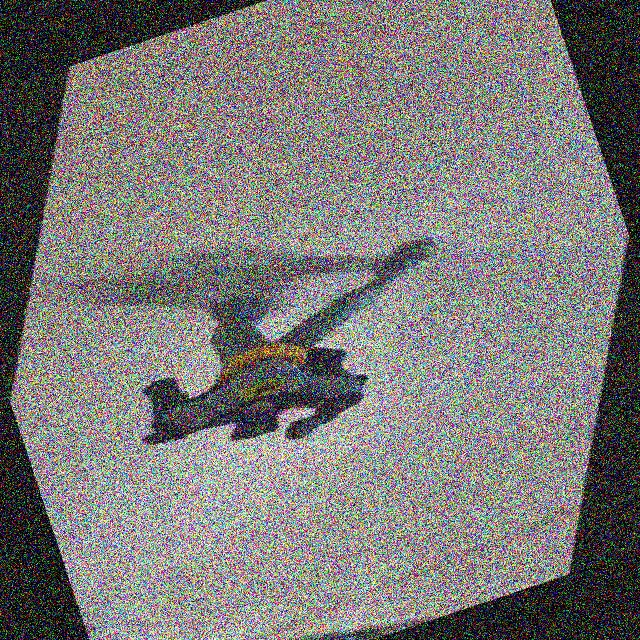Batman: (69, 189, 511, 512)
